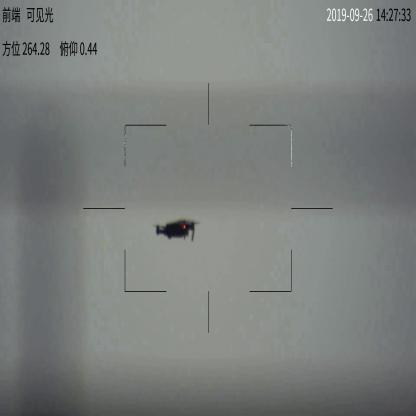uav: (149, 218, 203, 244)
